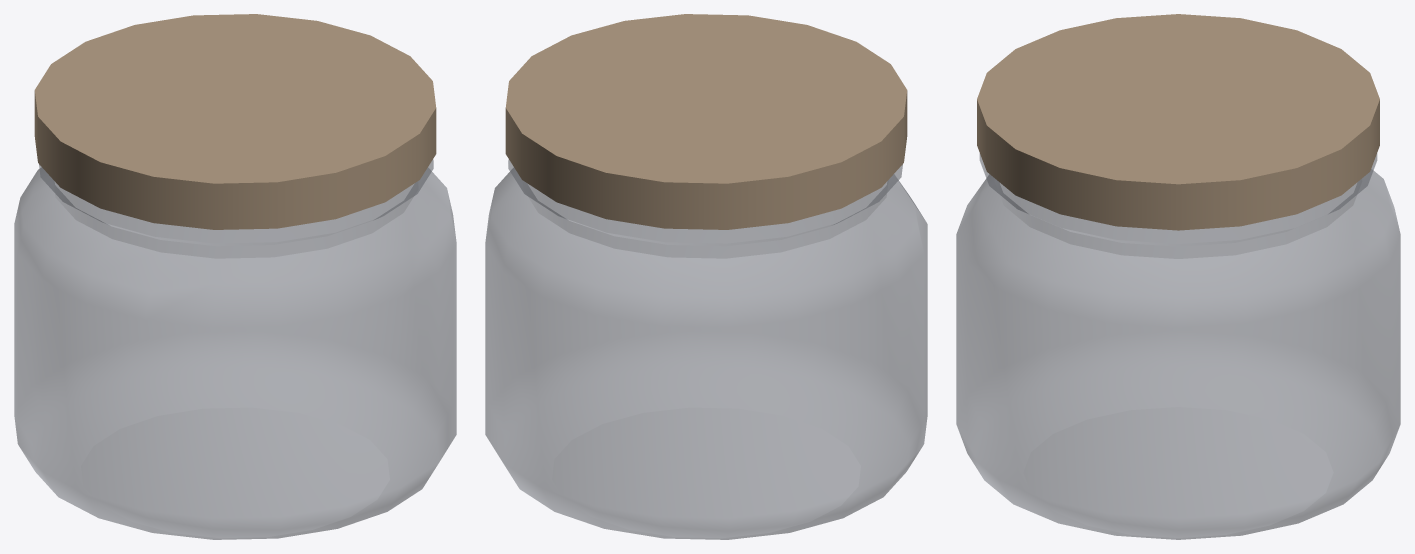
The model's file is Frasco_blocking.fbx.
3 renders of one model, left to right at view 1: azimuth 30°, elevation 25°; view 2: azimuth 150°, elevation 25°; view 3: azimuth 270°, elevation 25°, orthographic.
Visible parts, largest first — view 1: Frasco, Tapa; view 2: Frasco, Tapa; view 3: Frasco, Tapa.
Part boxes in pixels (<box>): Frasco: <box>14,159,456,539</box>; Tapa: <box>34,14,436,229</box>; Frasco: <box>485,159,927,539</box>; Tapa: <box>505,14,907,229</box>; Frasco: <box>956,153,1400,539</box>; Tapa: <box>977,14,1379,230</box>.
Bounding box in the file's own units: 1.51 × 1.4 × 1.51.
